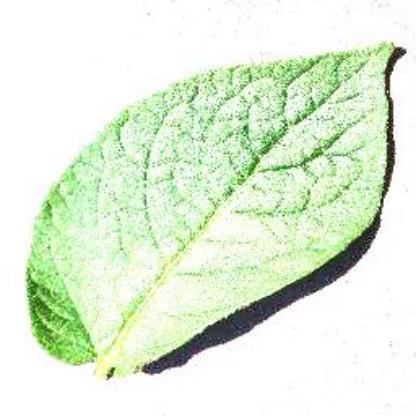Healthy-plant: (22, 33, 408, 383)
